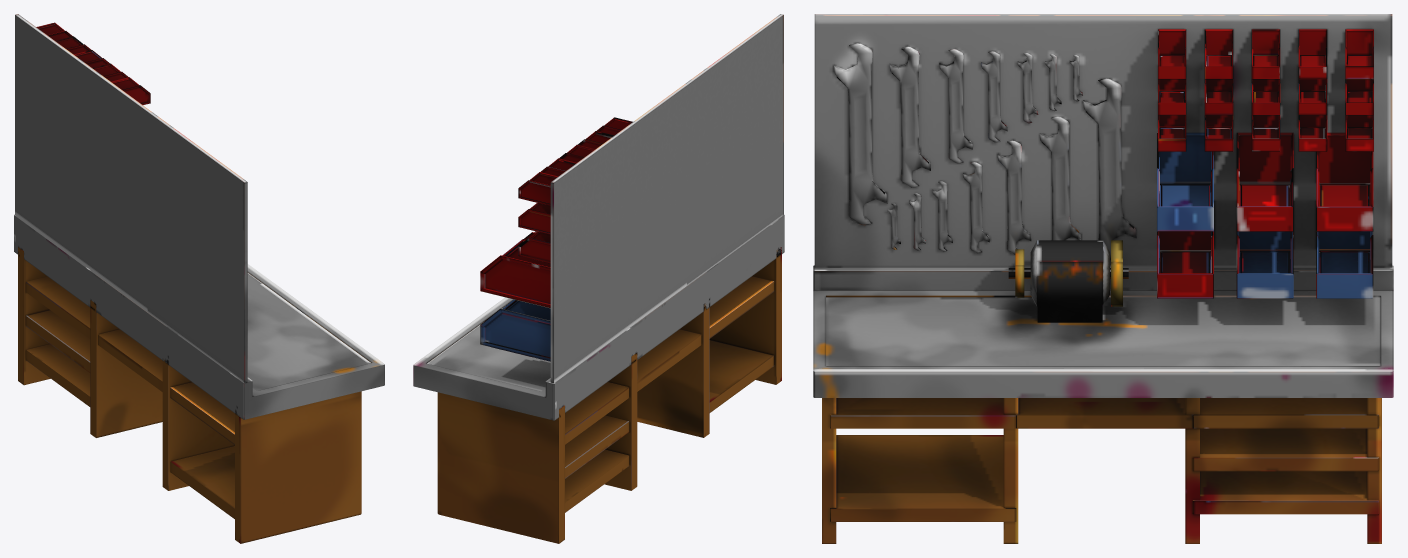
3 views of the same model, side by side, from view 1: azimuth 30°, elevation 25°; view 2: azimuth 150°, elevation 25°; view 3: azimuth 270°, elevation 25° (orthographic). The views are drawn at different scales.
Visible parts, largest first — view 1: Cube.004; view 2: Cube.004; view 3: Cube.004.
Boxes of the visible parts, x1,y1,x2,y2 form: Cube.004: (14, 14, 384, 543); Cube.004: (413, 14, 784, 543); Cube.004: (813, 14, 1393, 543).
Bounding box in the file's own units: 161 × 394 × 453.
Materials: 1 (1 with a texture image).
